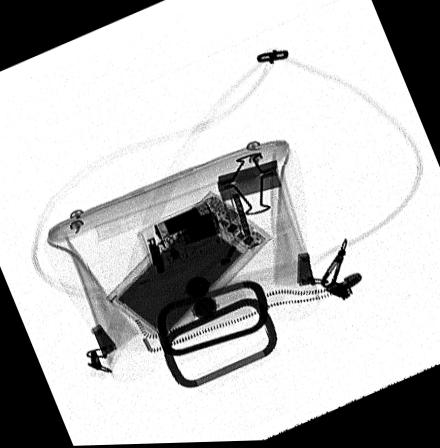Powerbank: (105, 191, 274, 346)
